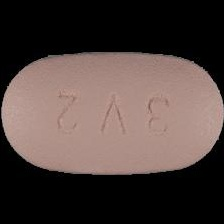0007-4885: (0, 0, 224, 224)
